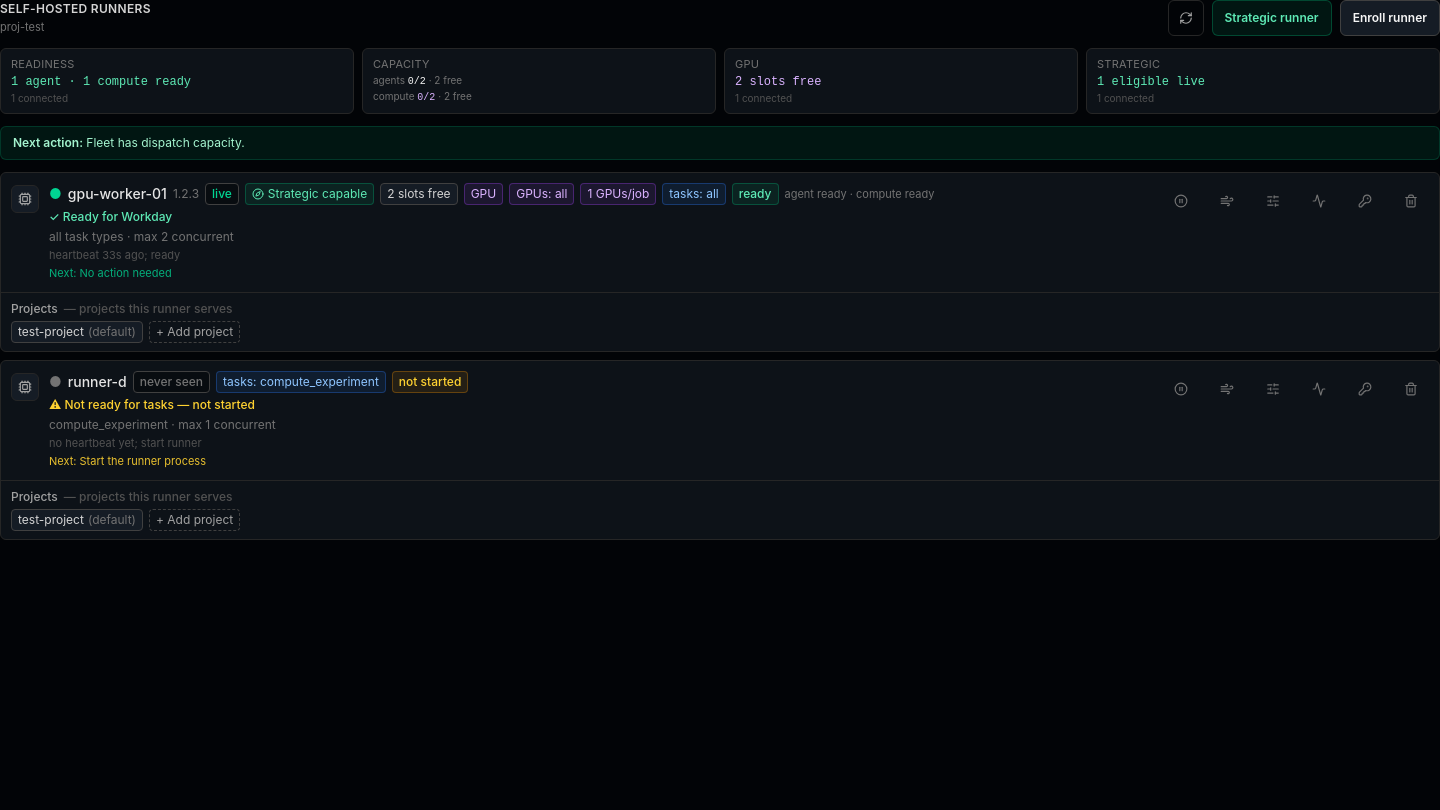
FleetRunnersPanel — behavioral › rotate error is displayed in the panel
The image size is (1440, 810).
Click the button titled "Rotate runner token" at [1365, 201], box [1347, 183, 1383, 219]
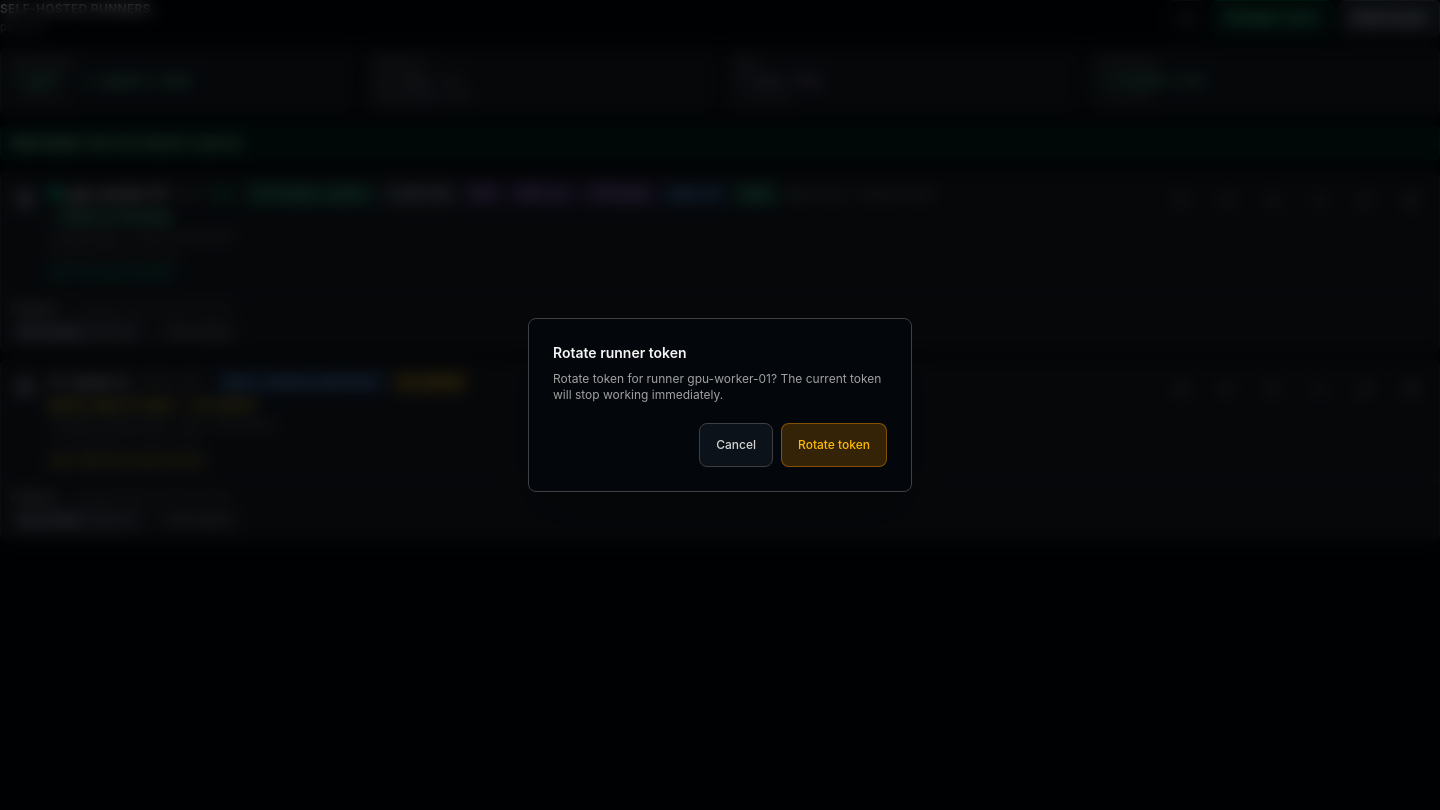
Click the button with test id "confirm-dialog-confirm" at [834, 445], box [781, 423, 887, 467]
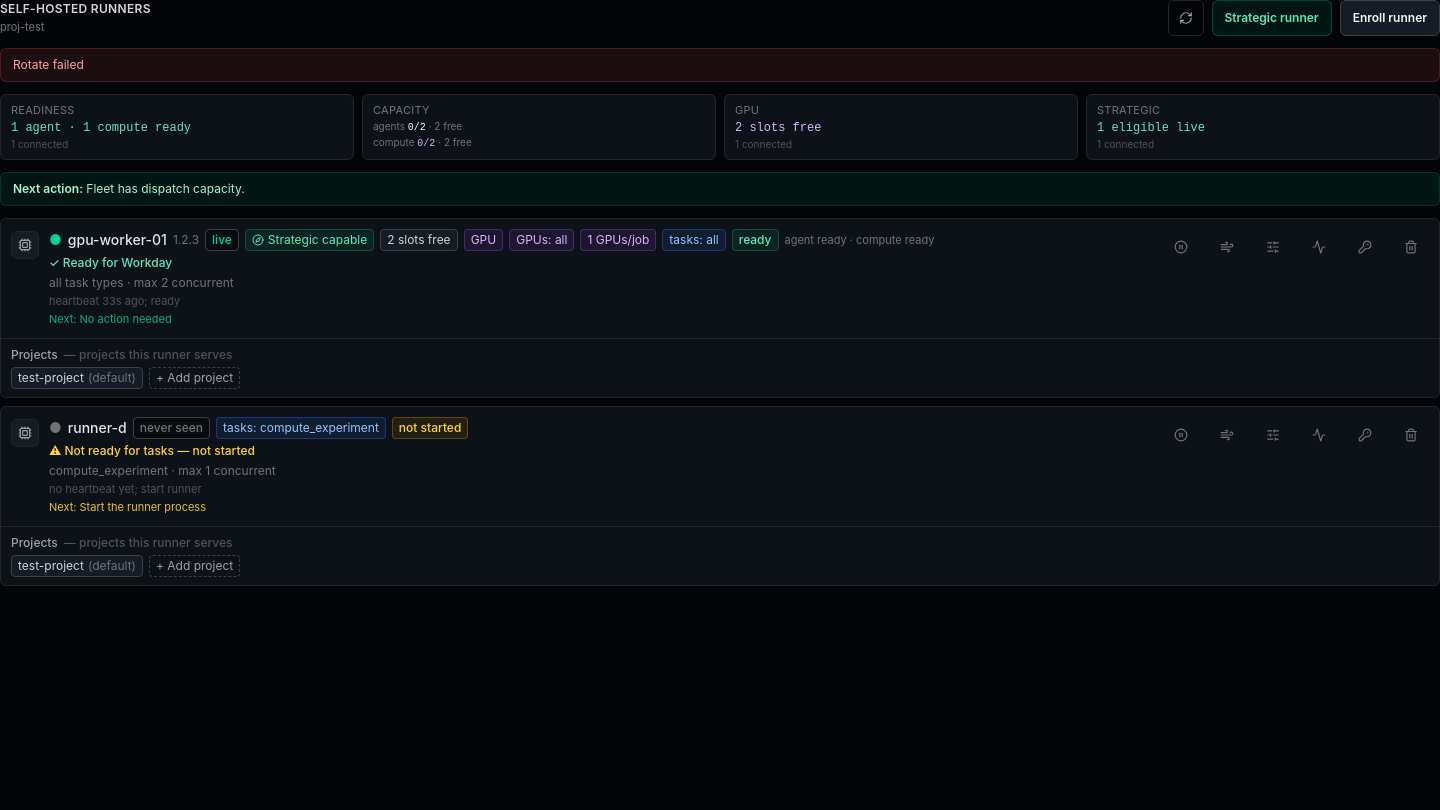
Now the text "Rotate failed" is shown, box [0, 48, 1439, 82]
